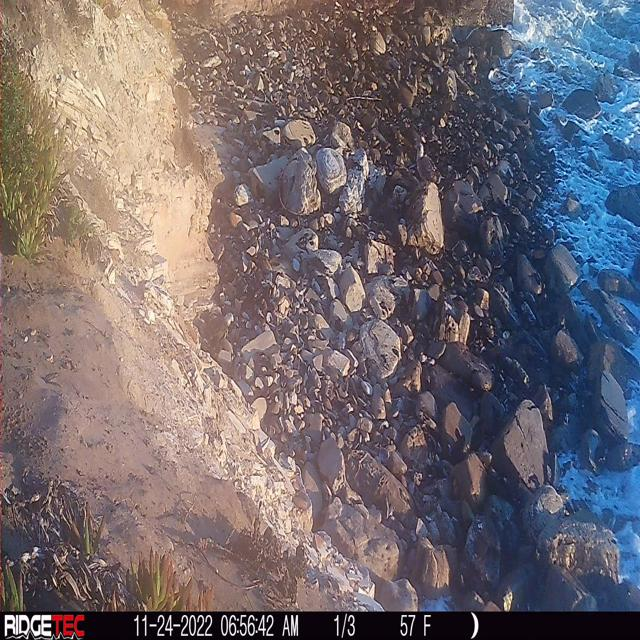bird: (406, 129, 447, 196)
